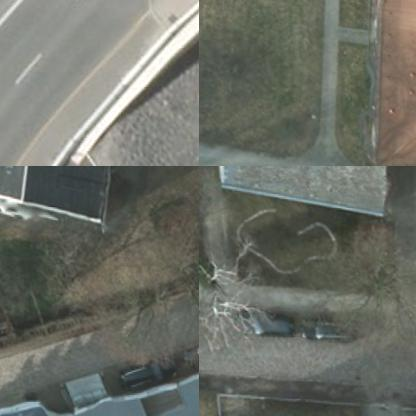car: (107, 348, 168, 388), (290, 312, 350, 342)
